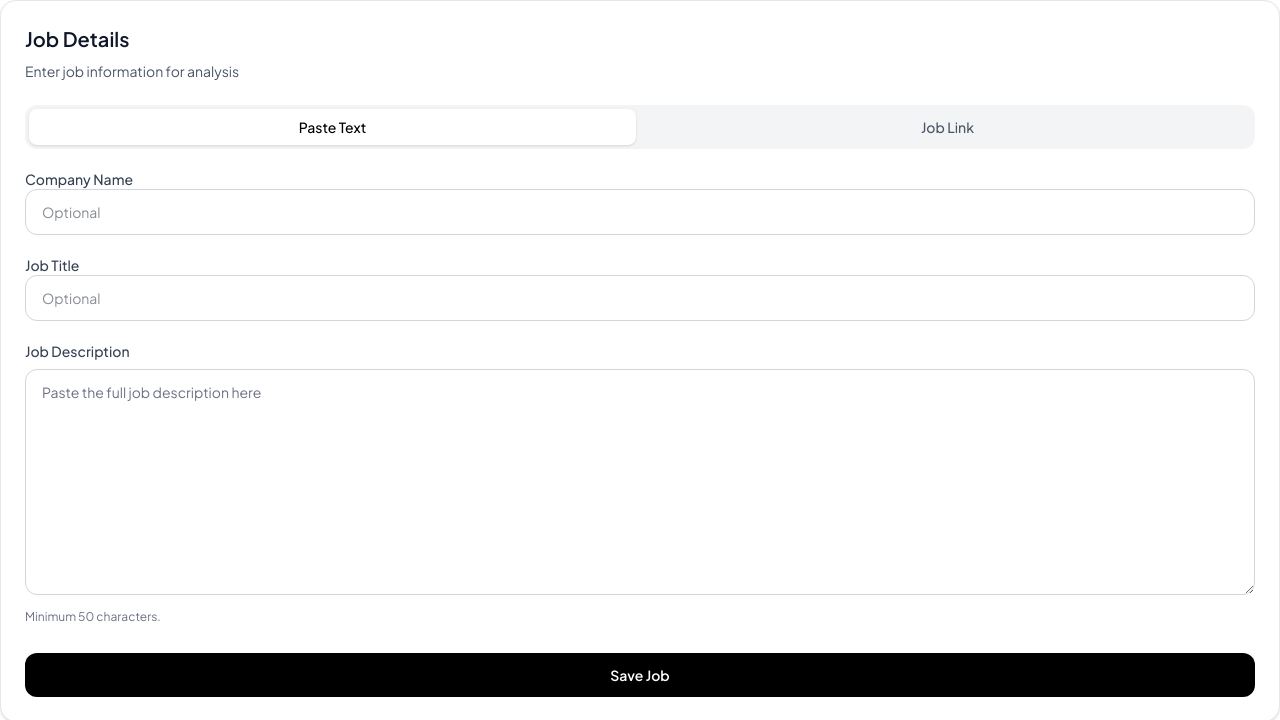
Test: JobForm › shows validation errors for invalid or missing input
This screenshot has width=1280, height=720.
In the text box labelled "Job Description": (640, 482) [25, 369, 1255, 595], type "short"
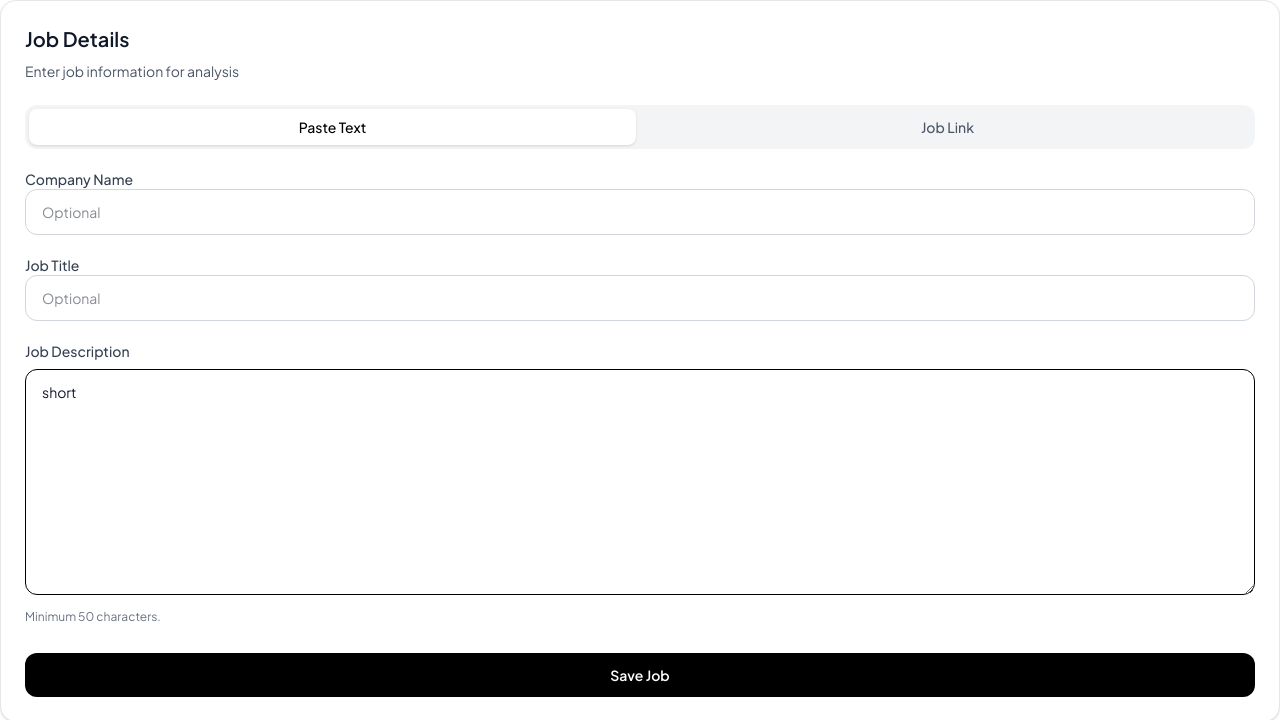
Click the button with aria-label "Submit job analysis": (640, 675) [25, 653, 1255, 697]
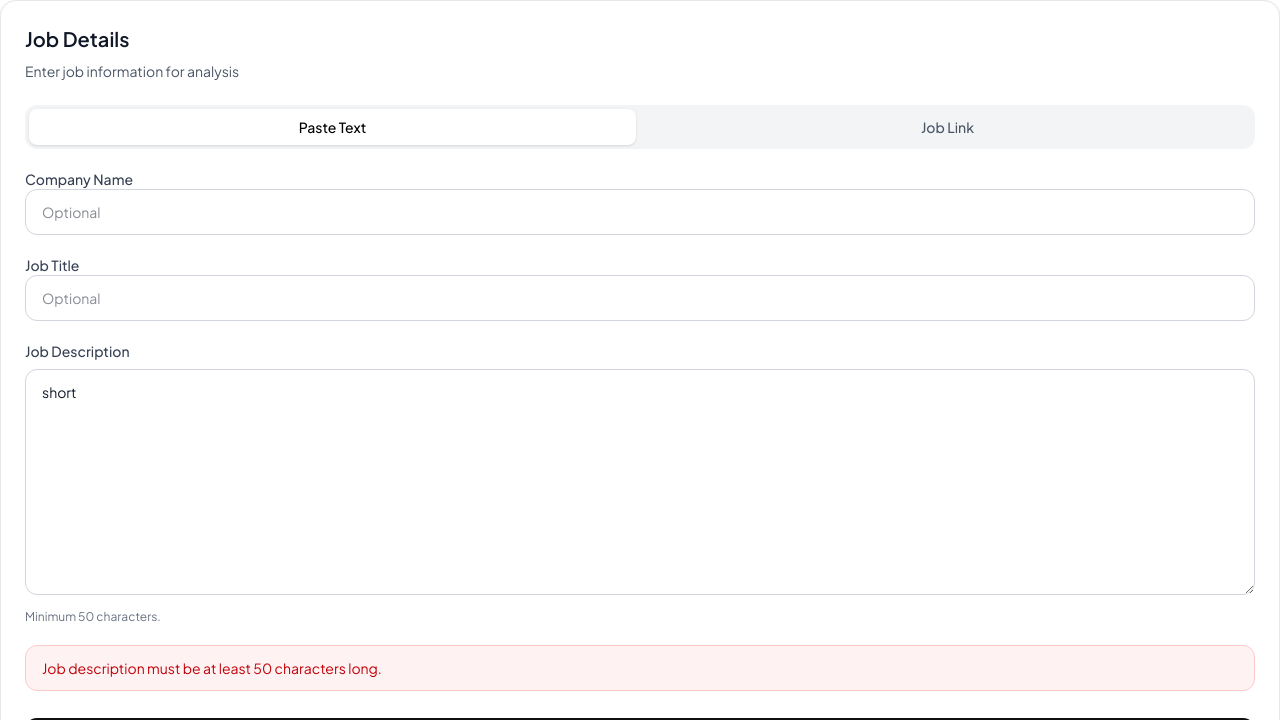
expect the message reads "Job description must be at least 50 characters long.": met, box [42, 659, 382, 677]
Click the button "Job Link": (948, 127) [644, 109, 1251, 145]
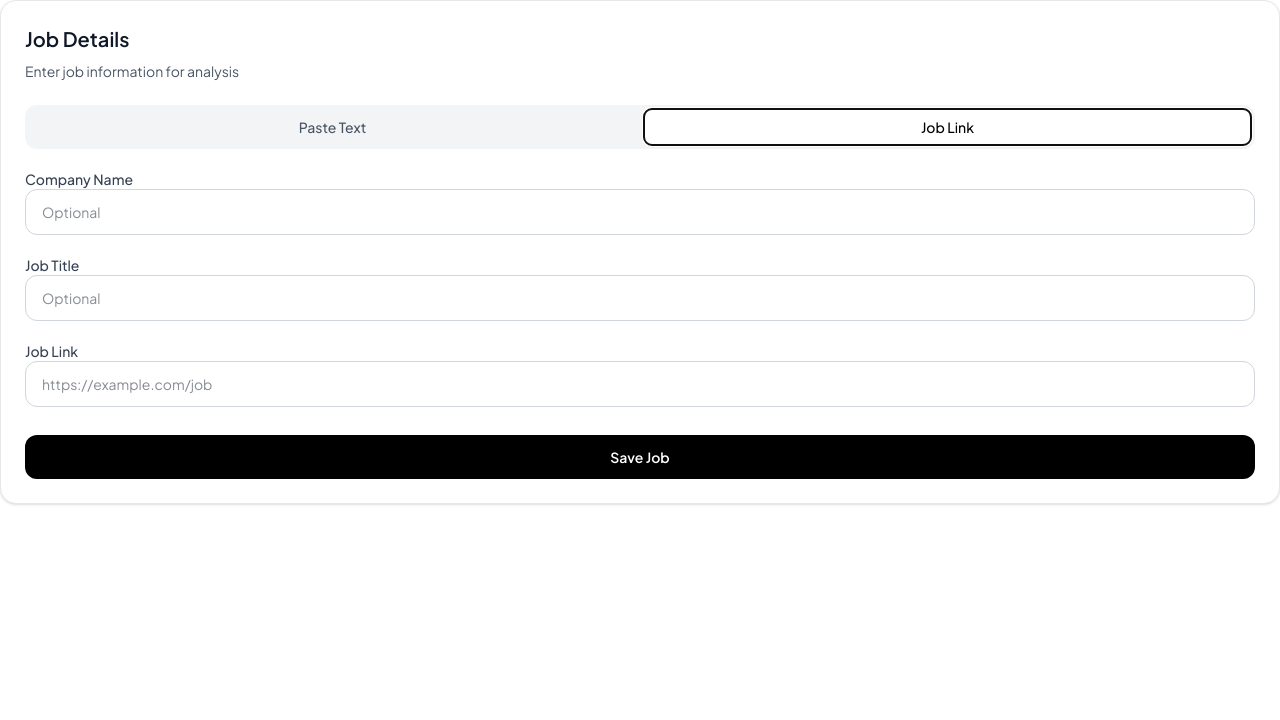
Click the button with aria-label "Submit job analysis": (640, 457) [25, 435, 1255, 479]
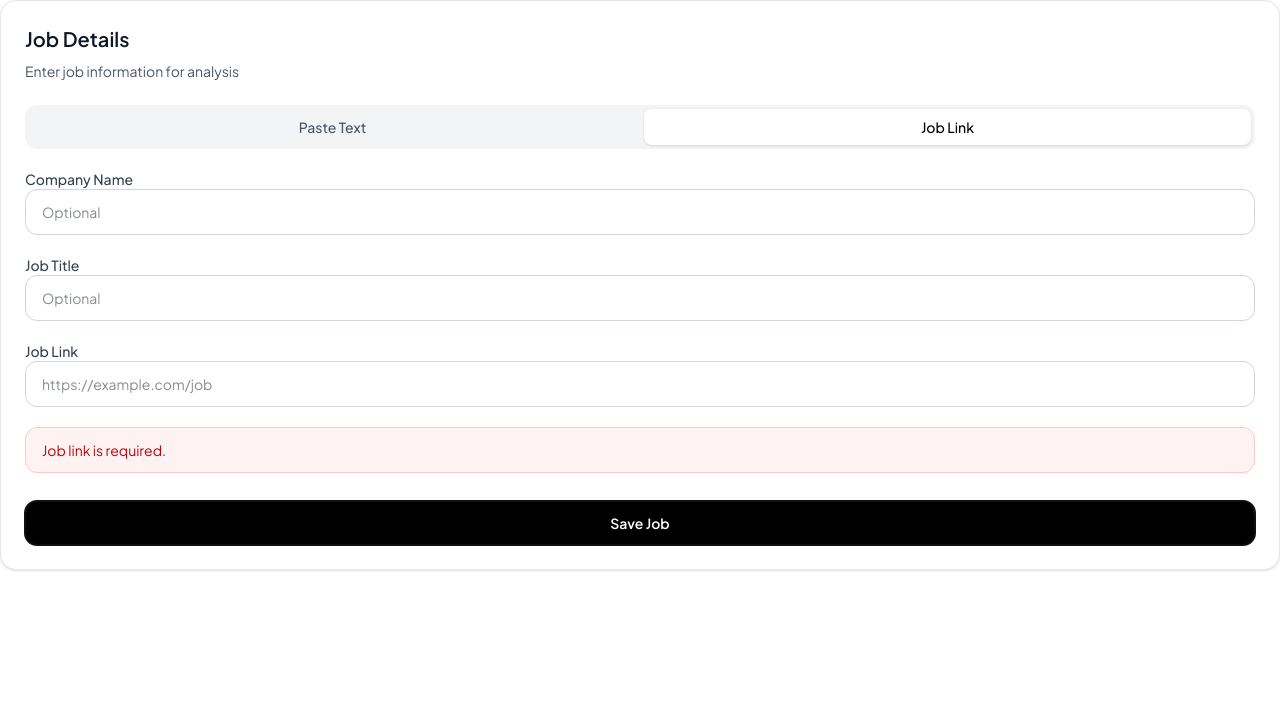
expect the message reads "Job link is required.": met, box [42, 441, 166, 459]
